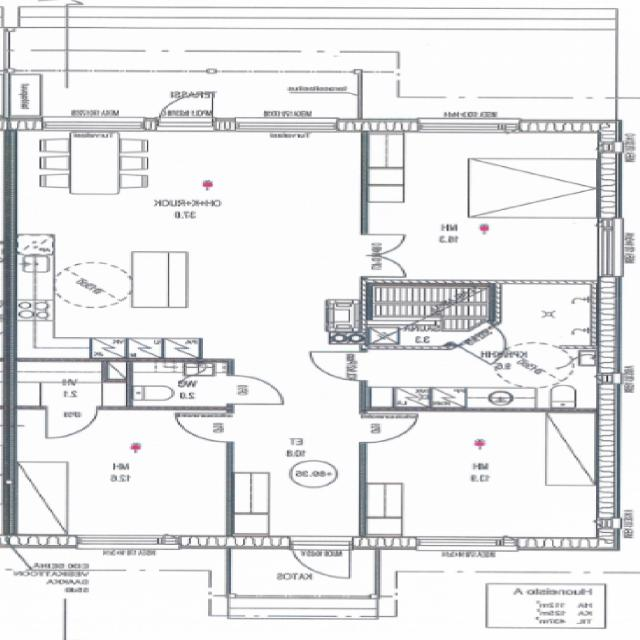door: (452, 319, 535, 366), (292, 537, 354, 583), (158, 88, 216, 133), (175, 412, 235, 442), (48, 406, 100, 439), (309, 351, 368, 380), (360, 415, 419, 443), (228, 376, 285, 404), (360, 234, 405, 256), (360, 256, 405, 276)
